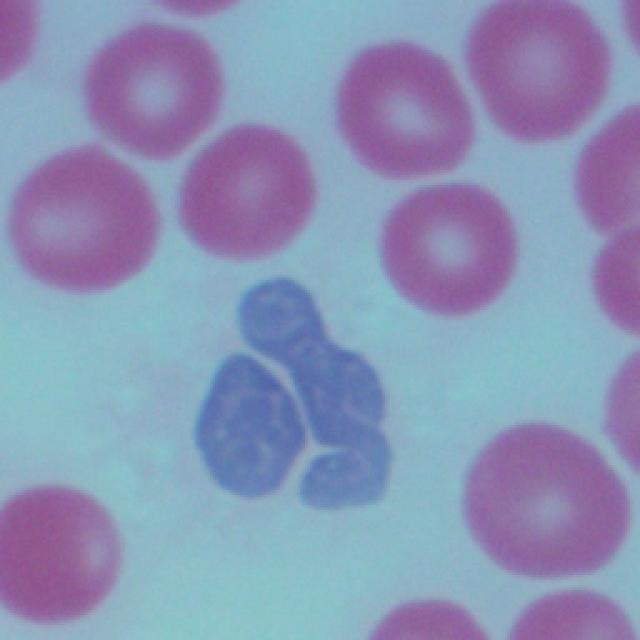RBC: (466, 417, 628, 573), (21, 150, 162, 286), (0, 483, 126, 624), (475, 0, 610, 130), (342, 46, 477, 174), (388, 182, 517, 314), (90, 23, 221, 150), (187, 122, 310, 256), (507, 585, 629, 640), (579, 117, 640, 226), (602, 350, 640, 465), (599, 237, 640, 330), (0, 0, 35, 85)
WBC: (202, 282, 386, 510)
